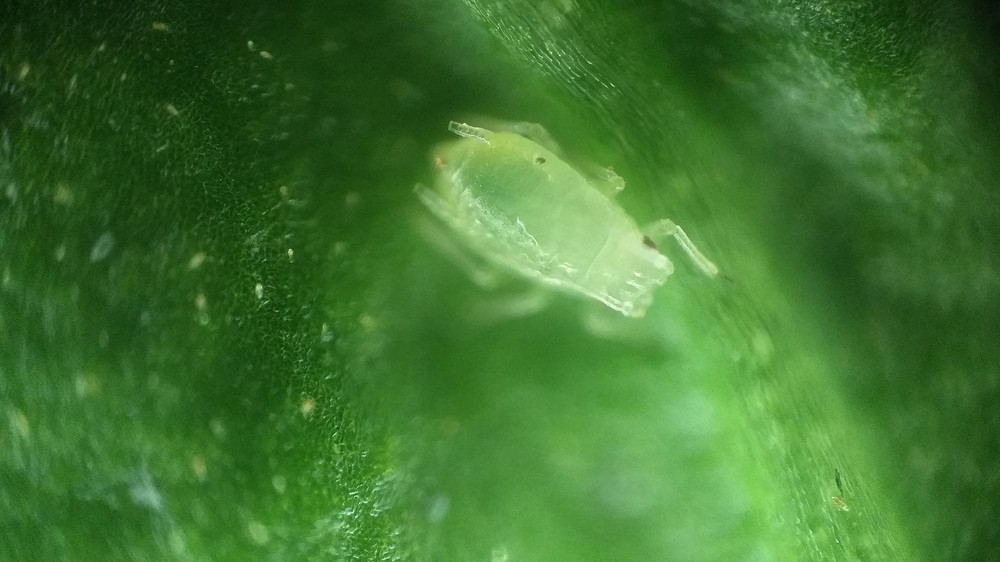Pulgon: (380, 91, 742, 387)
